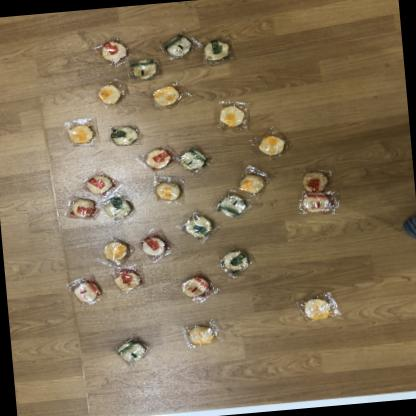green_setoshio: (178, 210, 218, 244), (112, 336, 150, 366), (217, 249, 253, 279), (158, 31, 195, 60), (176, 145, 211, 173), (109, 122, 143, 150), (215, 192, 249, 219), (100, 197, 134, 224), (202, 37, 233, 65), (128, 57, 162, 82)
red_setoshio: (67, 276, 105, 308), (176, 272, 216, 302), (296, 189, 338, 216), (138, 230, 172, 262), (94, 38, 132, 66), (62, 195, 99, 223), (110, 266, 144, 296), (136, 146, 174, 172), (300, 168, 334, 194), (81, 171, 116, 196)
yellow_setoshio: (250, 128, 292, 161), (298, 292, 338, 326), (150, 80, 188, 112), (216, 100, 251, 133), (95, 237, 132, 268), (182, 320, 220, 350), (236, 166, 271, 198), (65, 118, 99, 148), (152, 176, 186, 206), (92, 80, 126, 109)
